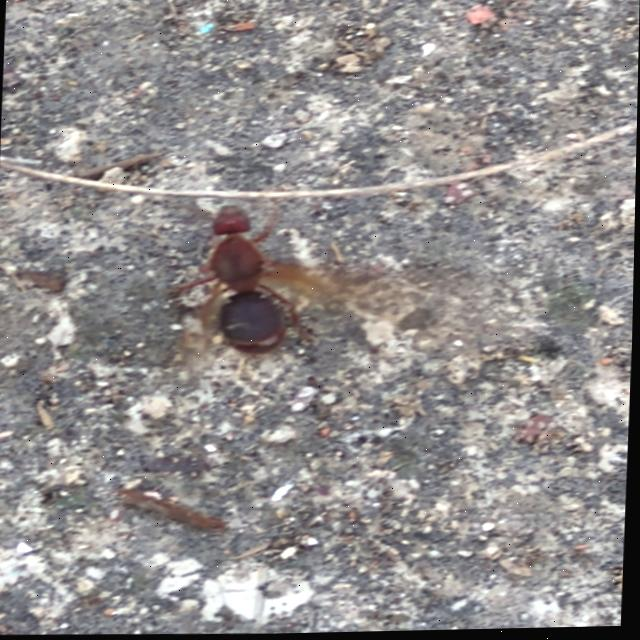Alive-Female-Alate: (164, 198, 452, 378)
